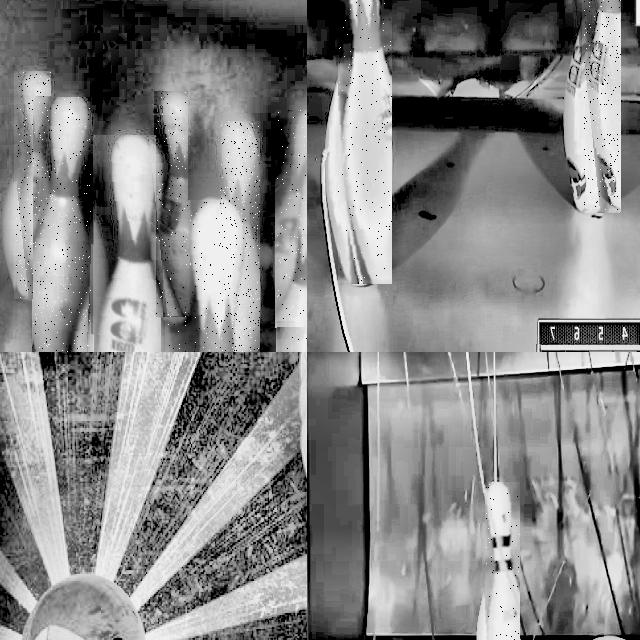bowling-ball: (20, 576, 144, 640)
bowling-pins: (338, 0, 392, 282), (92, 135, 160, 352), (33, 98, 90, 352), (220, 121, 260, 352), (187, 201, 242, 352), (16, 71, 50, 298), (584, 0, 620, 210), (156, 91, 187, 317), (277, 112, 307, 319), (485, 482, 520, 640)
